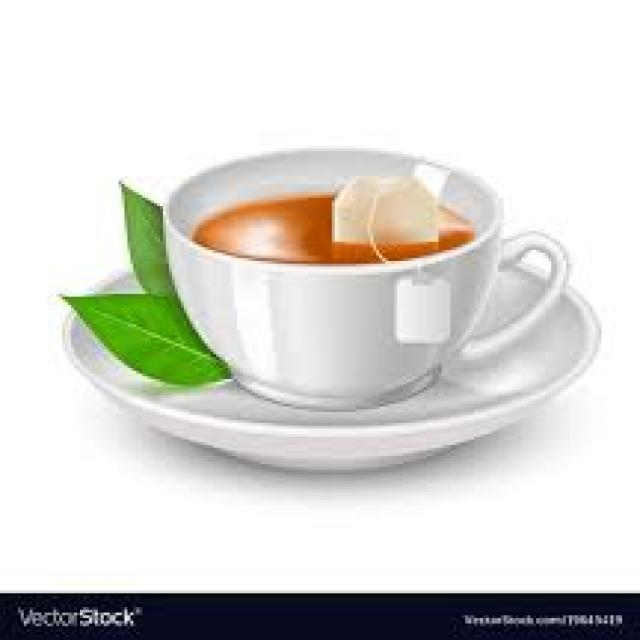taza: (120, 144, 588, 420)
